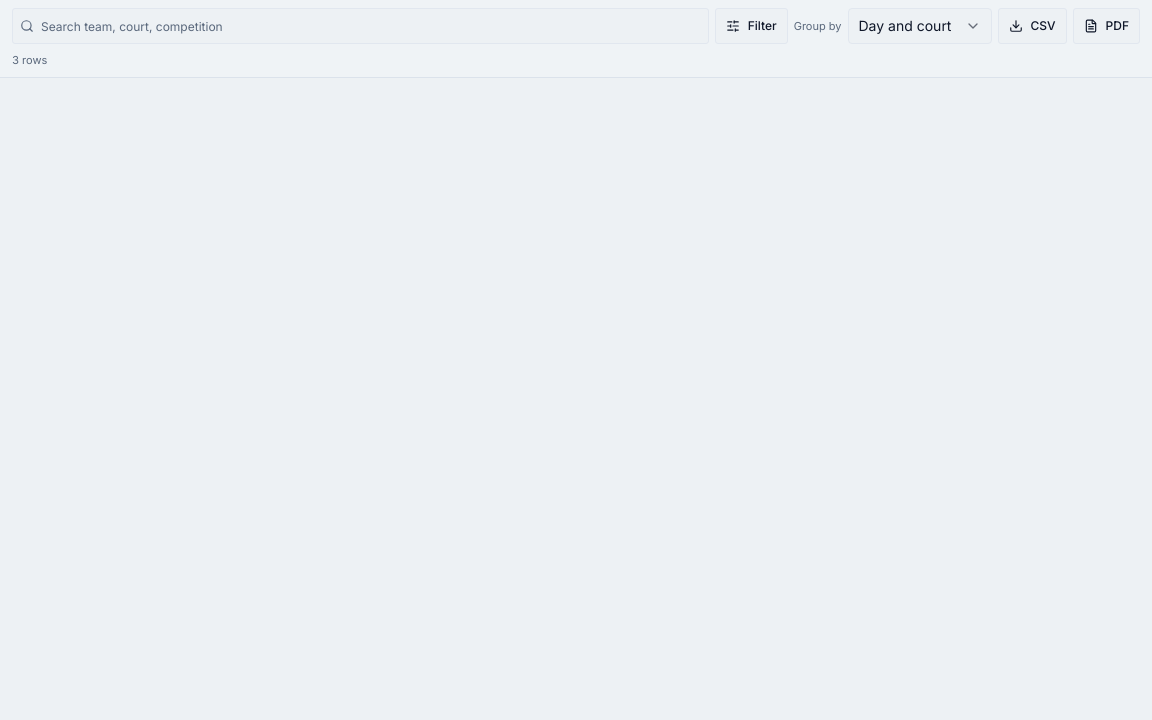
Test case: PreviewToolbar › keeps ONE filter button instead of a row of dropdowns
The width and height of the screenshot is (1152, 720).
Expected: the text with test id "sheet-count" reads "3 rows", [12,53,47,67]
Click the button with test id "open-filters": (751, 26) [715,8,788,44]
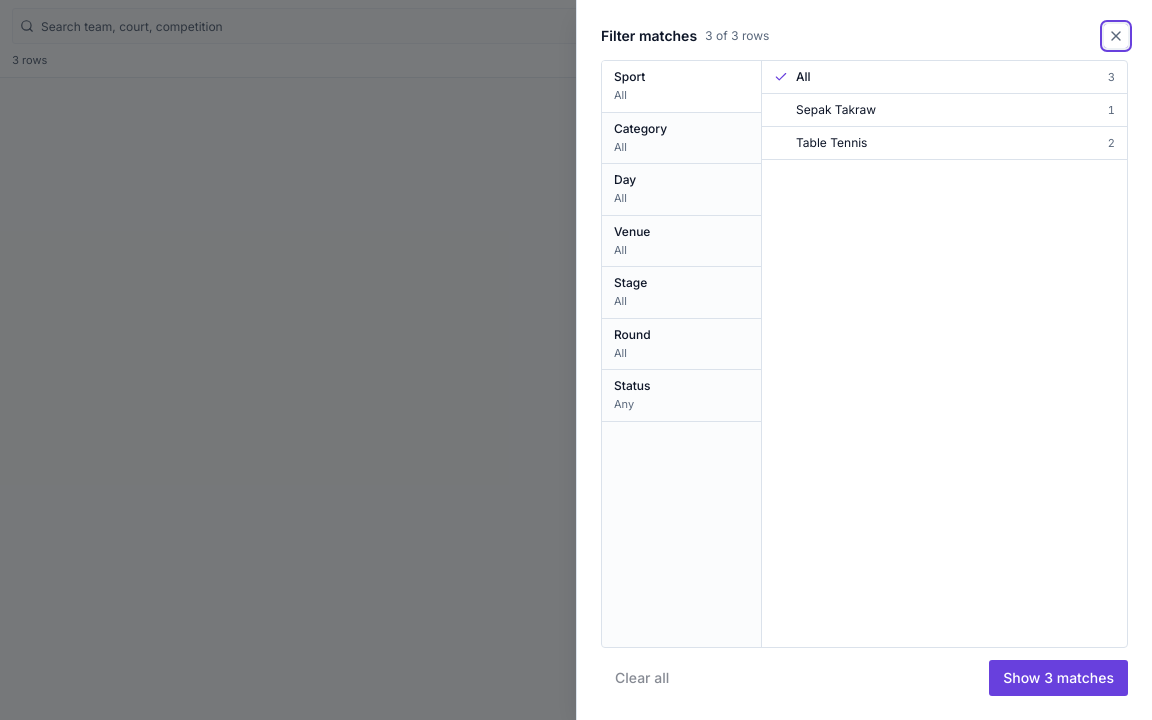
Now the element with test id "filter-drawer" is shown, box [601,24,1128,696]
